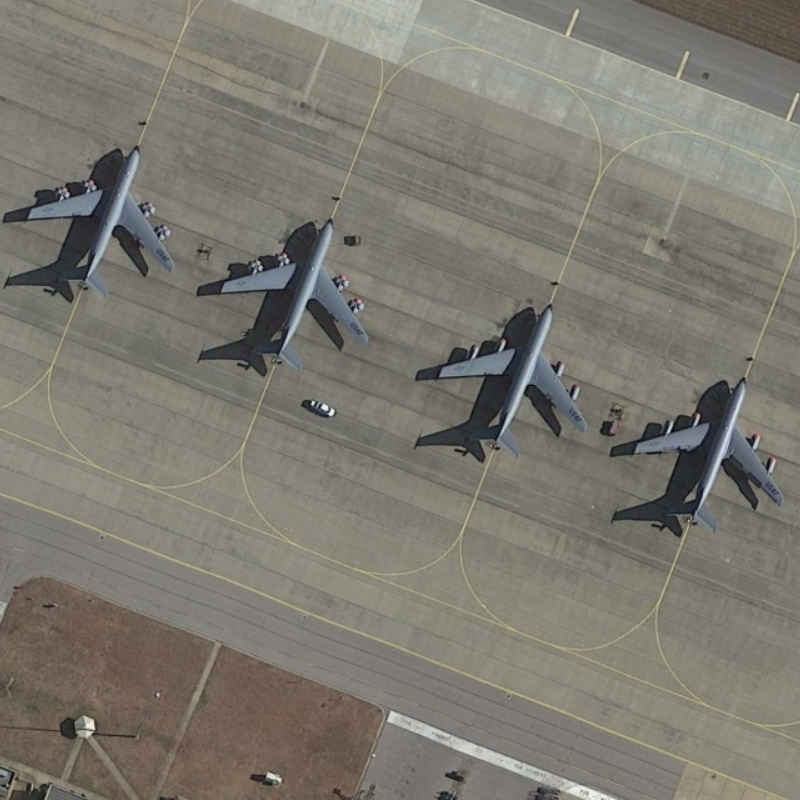A14: (19, 136, 184, 314), (429, 296, 593, 466), (208, 208, 373, 376), (626, 371, 789, 536)
